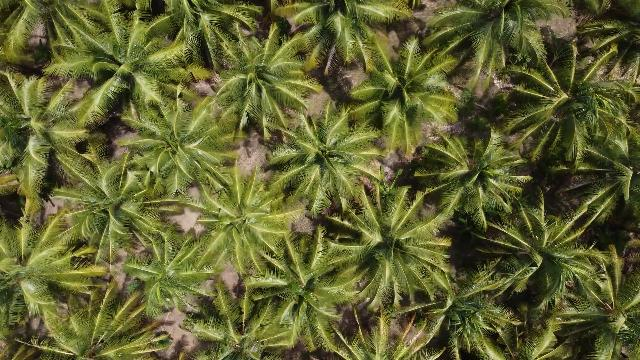trees: (495, 29, 638, 177), (472, 190, 618, 315), (328, 175, 457, 316), (50, 144, 183, 272), (5, 61, 120, 207), (239, 222, 363, 354), (181, 156, 303, 278), (272, 101, 387, 215), (125, 85, 243, 195), (419, 123, 533, 230), (541, 237, 640, 359), (41, 277, 172, 359), (136, 2, 245, 84), (126, 232, 216, 318), (328, 299, 443, 360), (435, 280, 524, 358), (289, 3, 389, 72), (585, 159, 635, 212)
